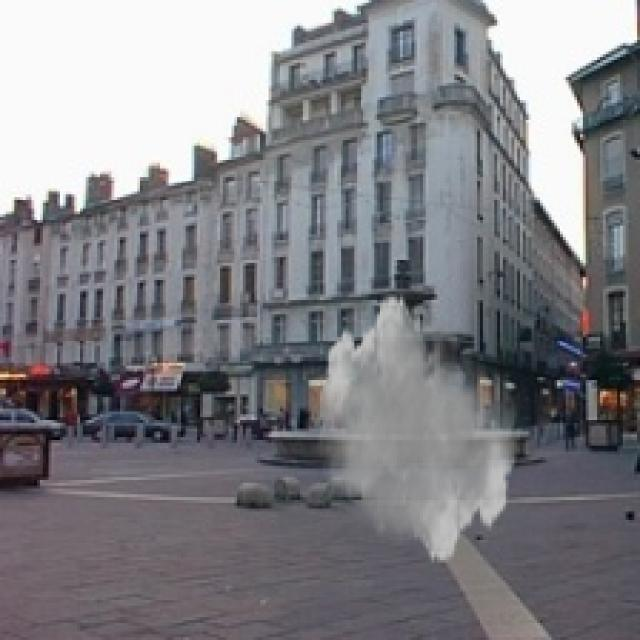Smoke: (314, 291, 520, 566)
